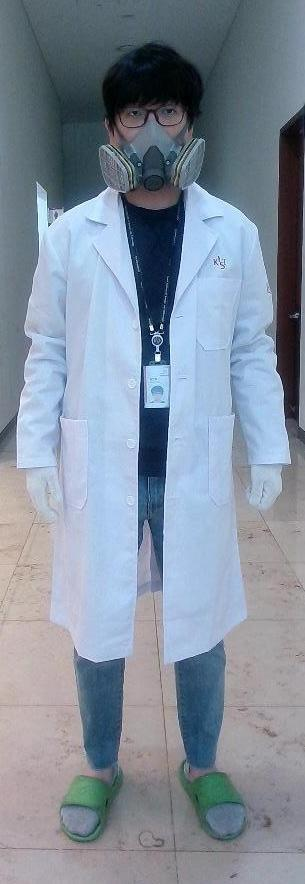lab_coat: (55, 196, 240, 650)
